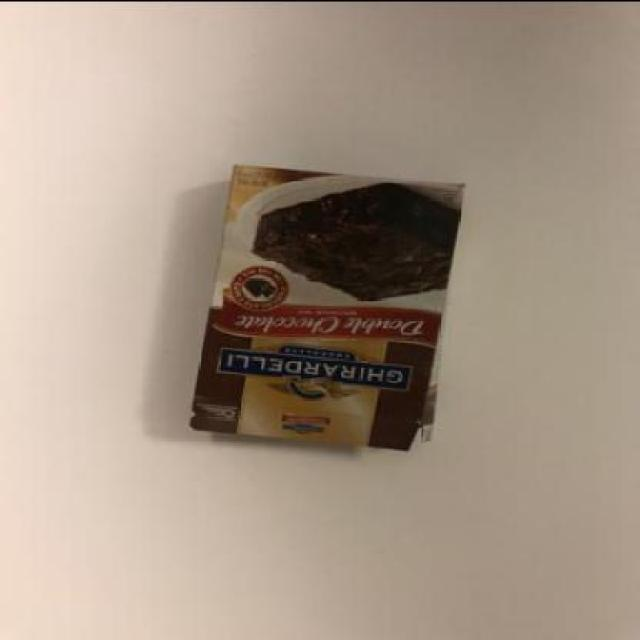CARDBOARD: (187, 166, 468, 452)
PAPER: (185, 164, 470, 450)
